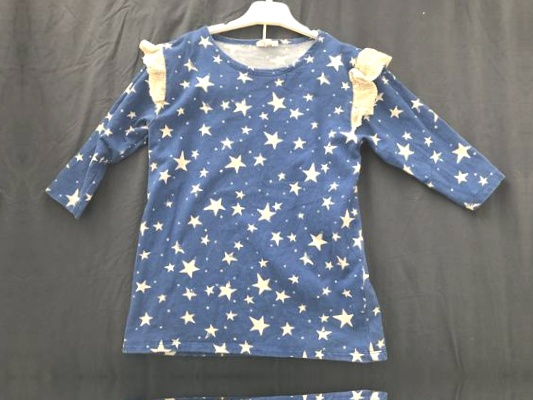Dress: (61, 4, 502, 366), (62, 388, 503, 400)
